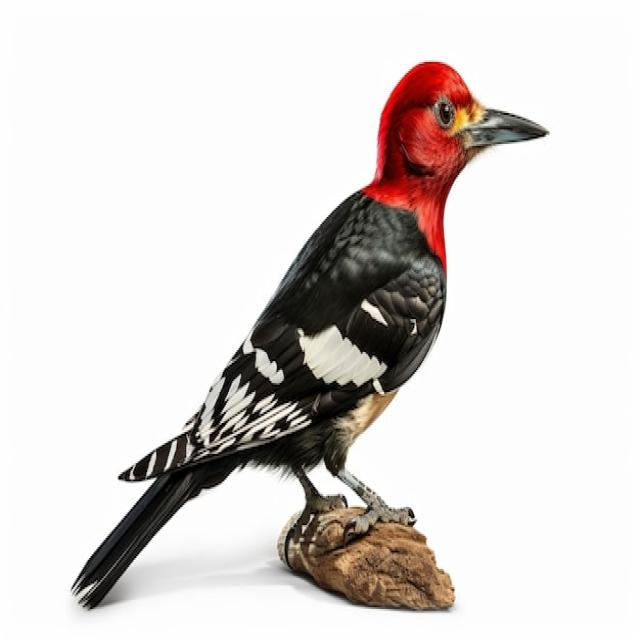Woodpecker: (78, 58, 552, 618)
